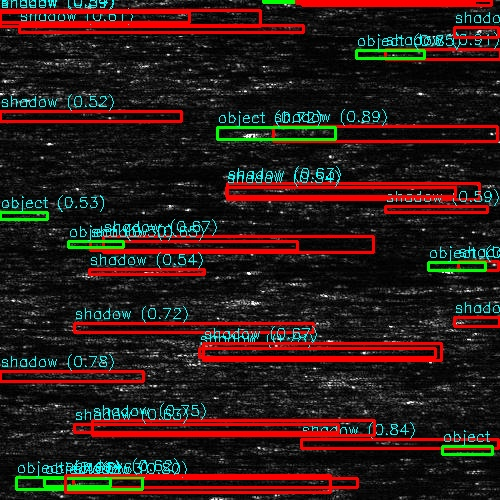rock: (0, 197, 97, 230), (303, 203, 438, 214), (205, 128, 320, 139), (416, 26, 499, 35), (193, 493, 298, 500), (57, 479, 120, 490), (221, 293, 314, 300), (356, 52, 439, 59), (52, 268, 125, 275), (431, 263, 484, 270), (447, 447, 500, 452), (62, 324, 93, 329), (464, 6, 500, 9), (268, 443, 289, 446)
shadow: (35, 197, 194, 230), (89, 479, 340, 490), (263, 128, 500, 139), (0, 282, 129, 295), (371, 203, 500, 214), (78, 324, 325, 329), (268, 293, 437, 300), (0, 470, 76, 483), (398, 52, 500, 59), (0, 48, 79, 57), (279, 443, 500, 446), (246, 493, 332, 500), (0, 376, 199, 379), (89, 268, 170, 275), (458, 26, 500, 35), (0, 494, 53, 500), (458, 263, 500, 270), (8, 396, 169, 397), (0, 354, 22, 359), (479, 447, 500, 452)
